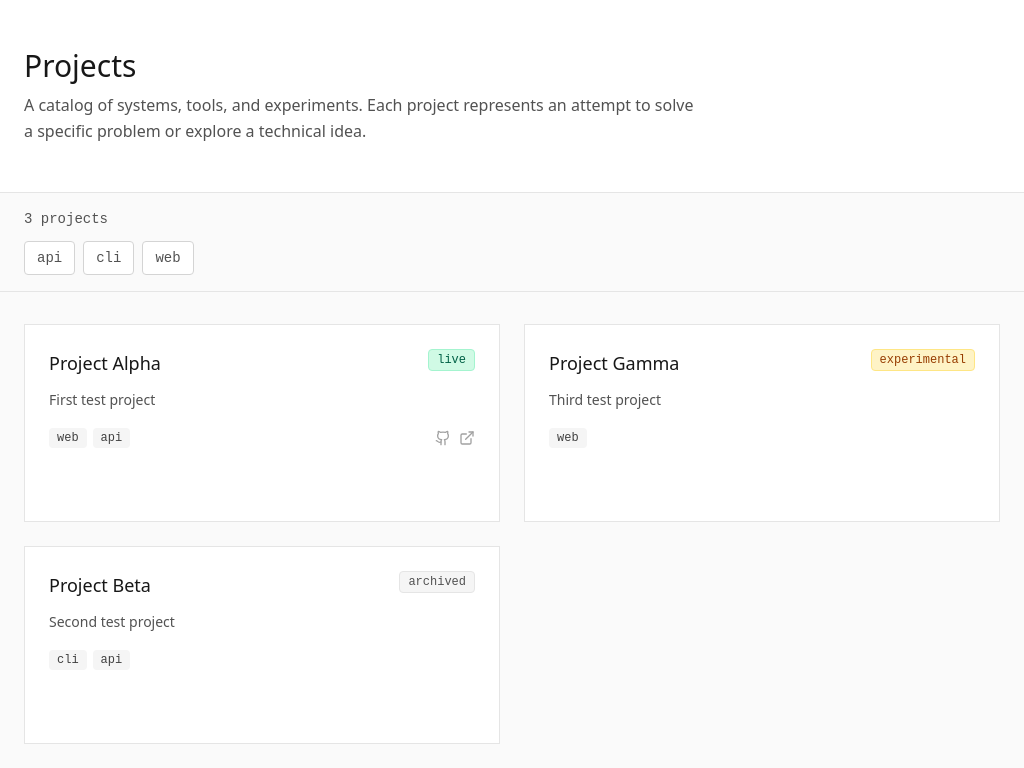
Test: ProjectList › filters projects by tag
Note: Click the filter button (not the tag span inside a card)
Click the button "cli".
click(109, 258)  # box left=83, top=241, right=134, bottom=275
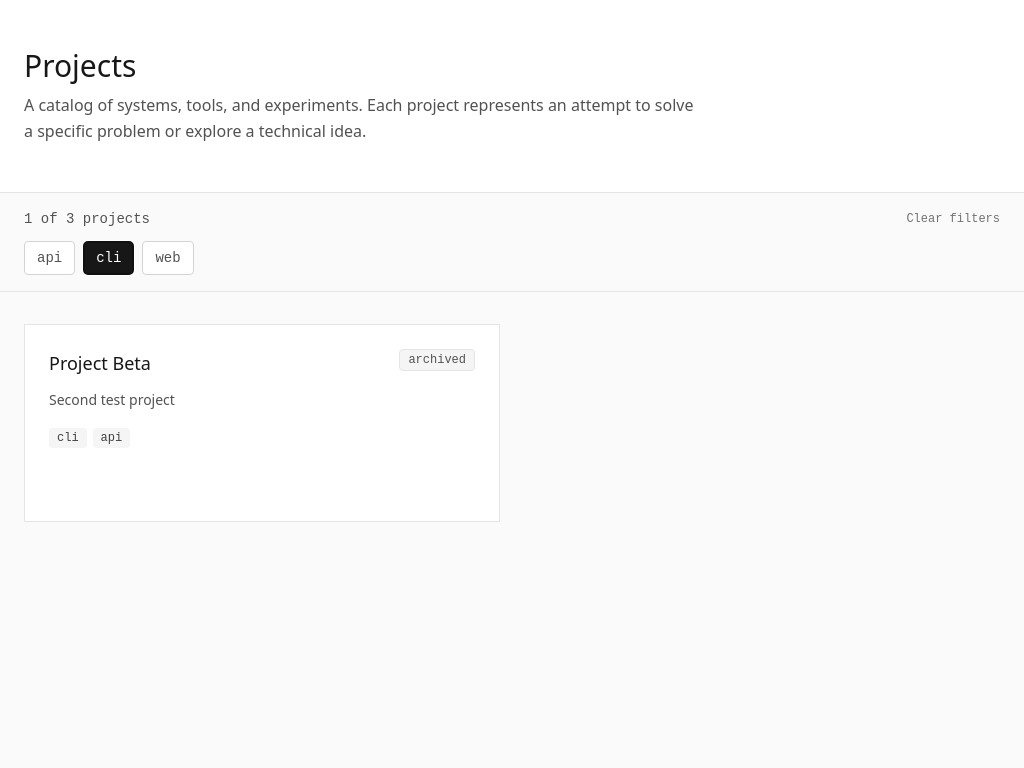
Now the button "Project Alpha" is gone
Now the button "Project Gamma" is gone
Now the text "1 of 3 projects" is shown, box left=24, top=209, right=150, bottom=229
